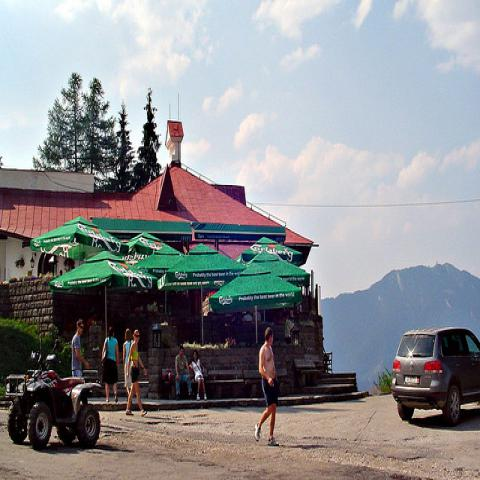car: (391, 326, 480, 426)
motorcycle: (6, 338, 103, 450)
